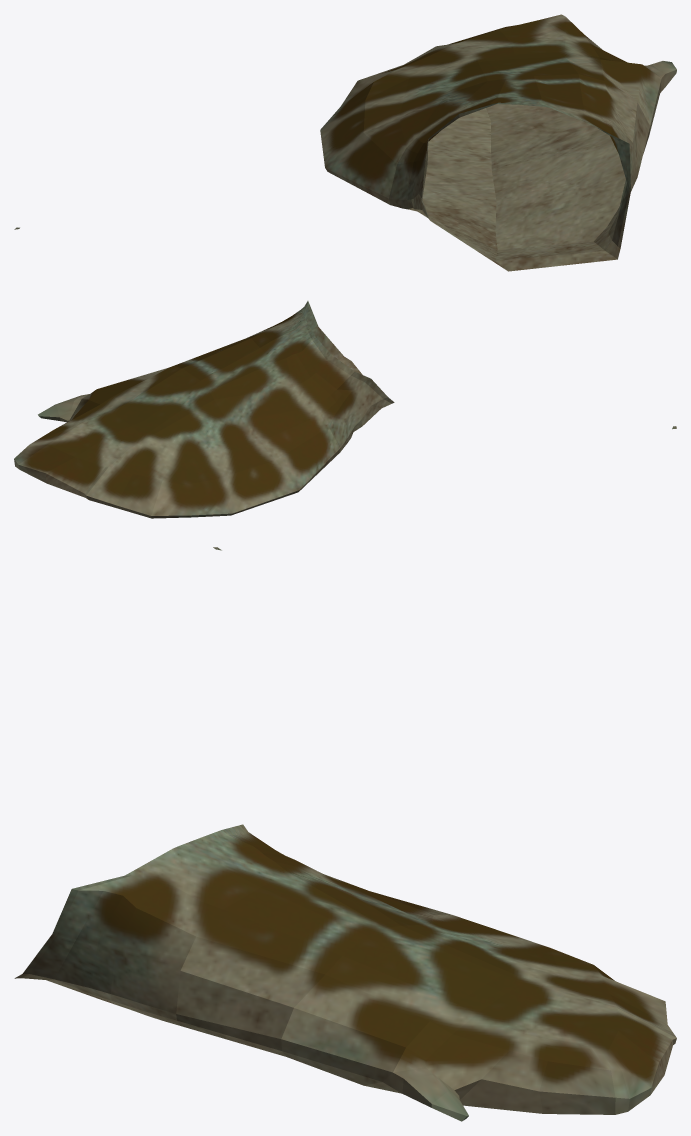
File: tortuga1patatraseraizquierda.obj
3 views of the same model, one above another, from view 1: azimuth 30°, elevation 25°; view 2: azimuth 150°, elevation 25°; view 3: azimuth 270°, elevation 25° (orthographic). The views are drawn at different scales.
Parts seen in each view (by area): view 1: Object_4.1757_Turtle_Color; view 2: Object_4.1757_Turtle_Color; view 3: Object_4.1757_Turtle_Color.
Part boxes in pixels (bbox=[...]): Object_4.1757_Turtle_Color: bbox=[320, 14, 676, 271]; Object_4.1757_Turtle_Color: bbox=[14, 301, 394, 518]; Object_4.1757_Turtle_Color: bbox=[14, 824, 676, 1121].
Bounding box in the file's own units: 98.12 × 16.79 × 60.22.
1 material, 1 textured.
